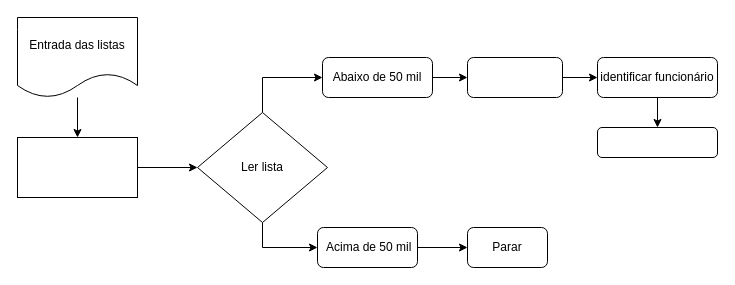
The diagram is 735 pixels wide and 285 high, and some of its shapes have lost their labels. The shapes that lost their labels are listed below. From the top down, each one's box as (x1, y1, x2, y2) in pixels, then its label:
(466, 56, 562, 98): Continuar lendo
(596, 126, 718, 158): Enviar sms
(16, 136, 138, 198): Dar preferência por mês mais recente
